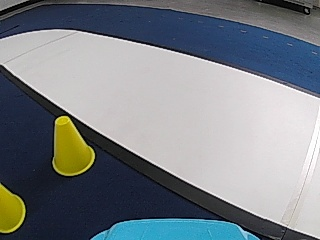cone: (51, 115, 96, 176), (1, 185, 25, 234)
